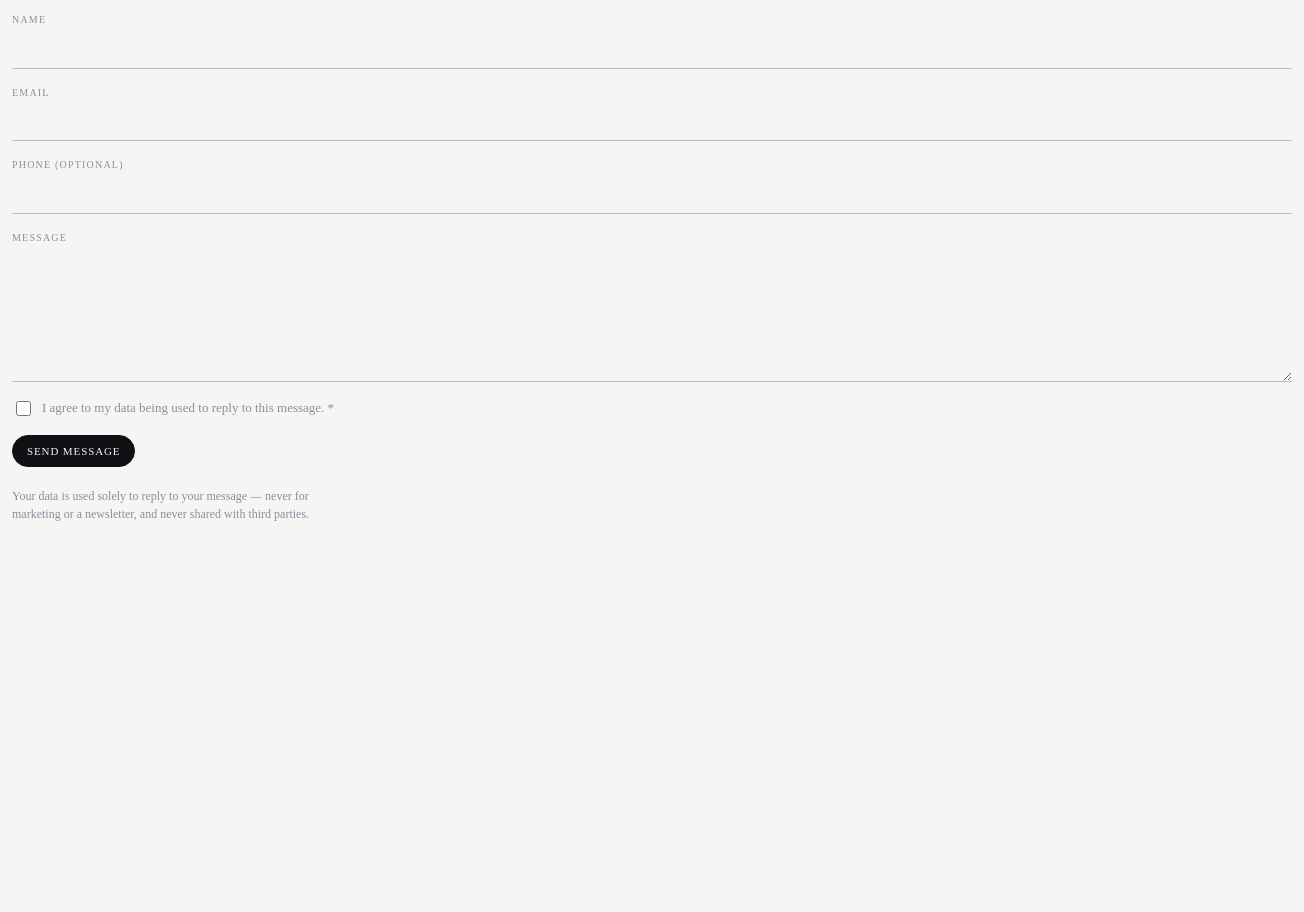
Test: ContactForm › submits the Turnstile token and form data, shows a toast, and resets on success
The width and height of the screenshot is (1304, 912).
Type "Jane Doe" into the field labelled "Name" at (652, 51), box [12,34,1292,68]
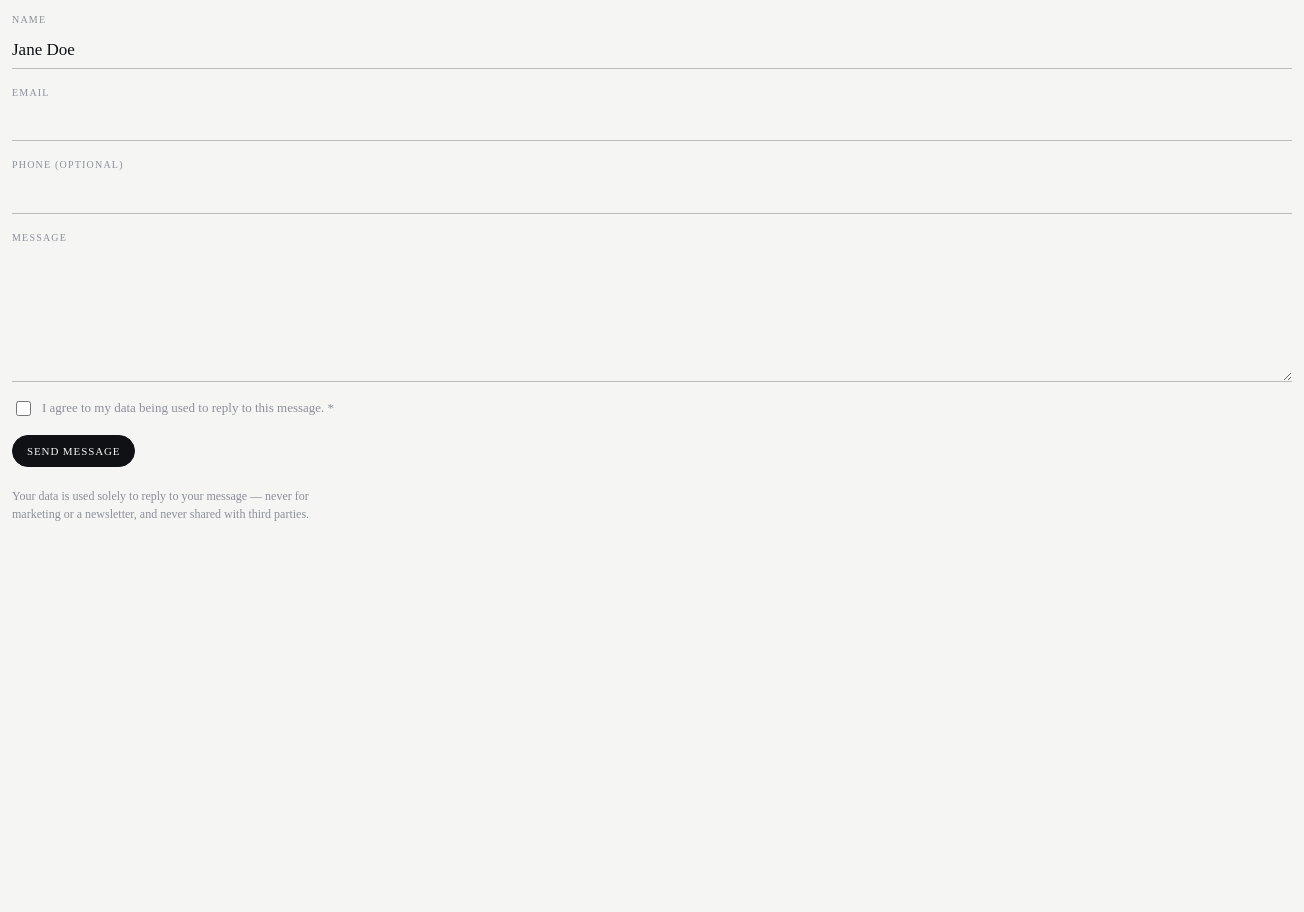
Type "jane@example.com" into the field labelled "Email" at (652, 124), box [12,106,1292,141]
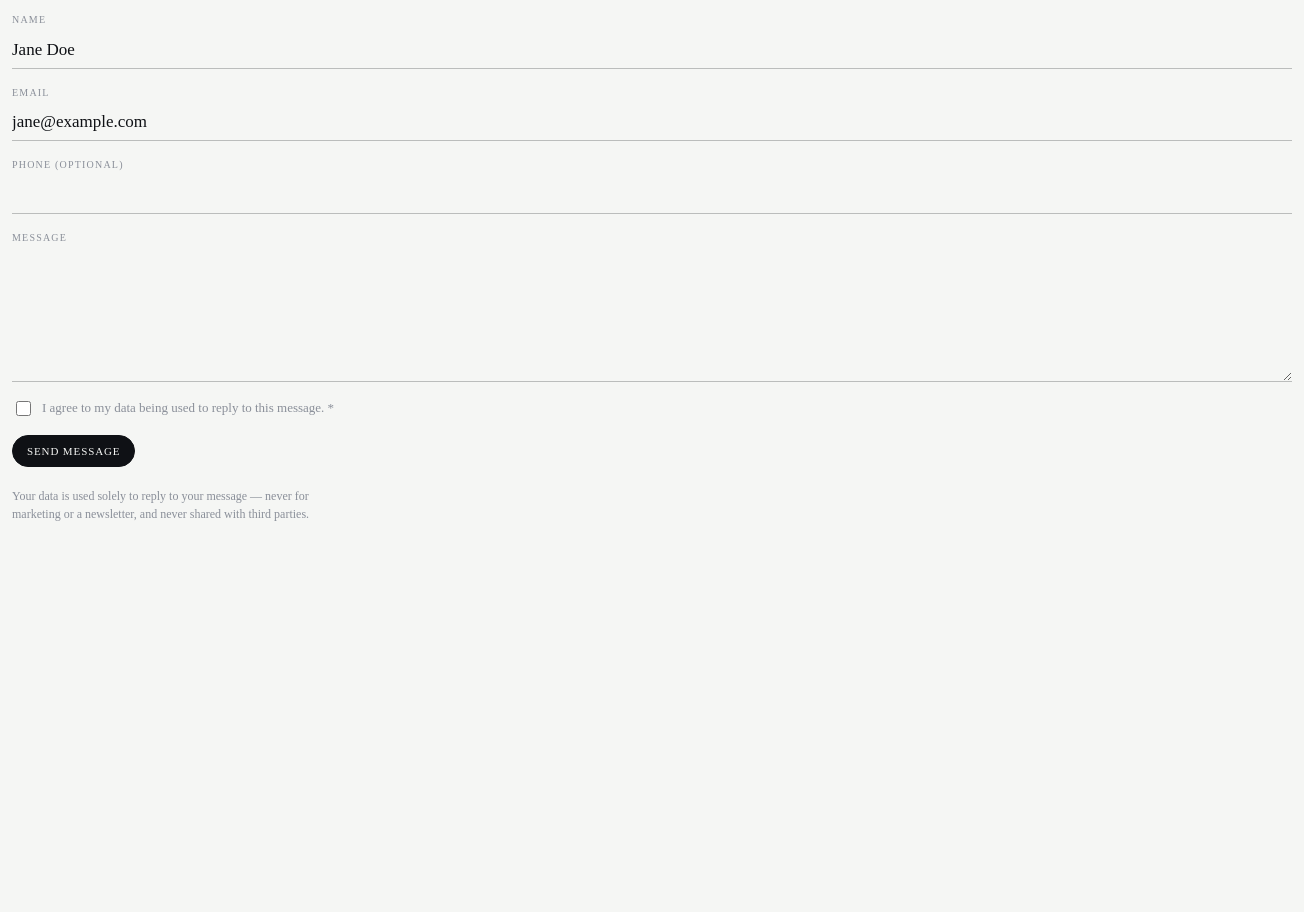
Type "Hello there." into the text box labelled "Message" at (652, 317), box [12,251,1292,382]
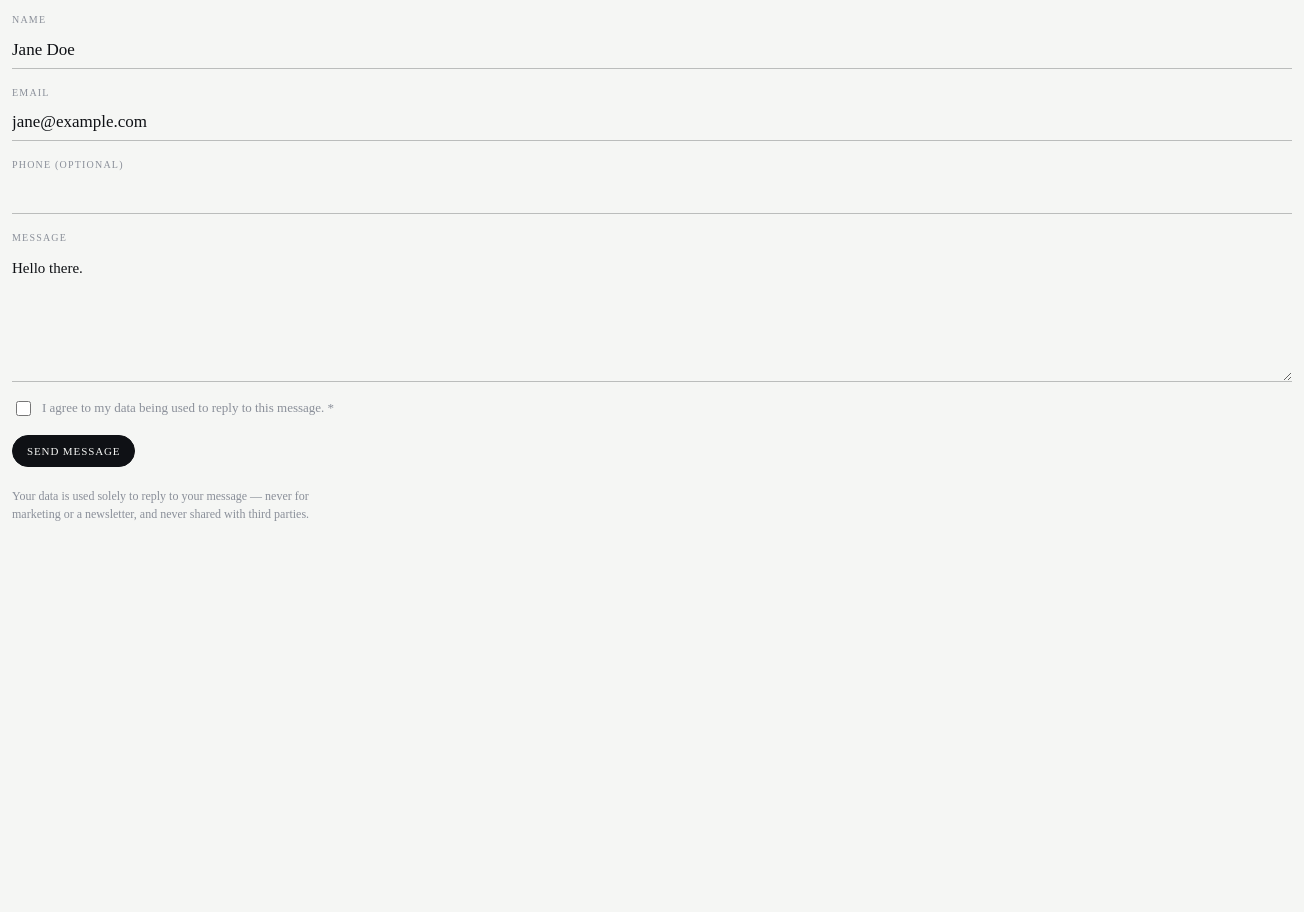
Click the checkbox labelled "I agree to my data being used to reply to this message. *" at (24, 409), box [16,401,31,416]
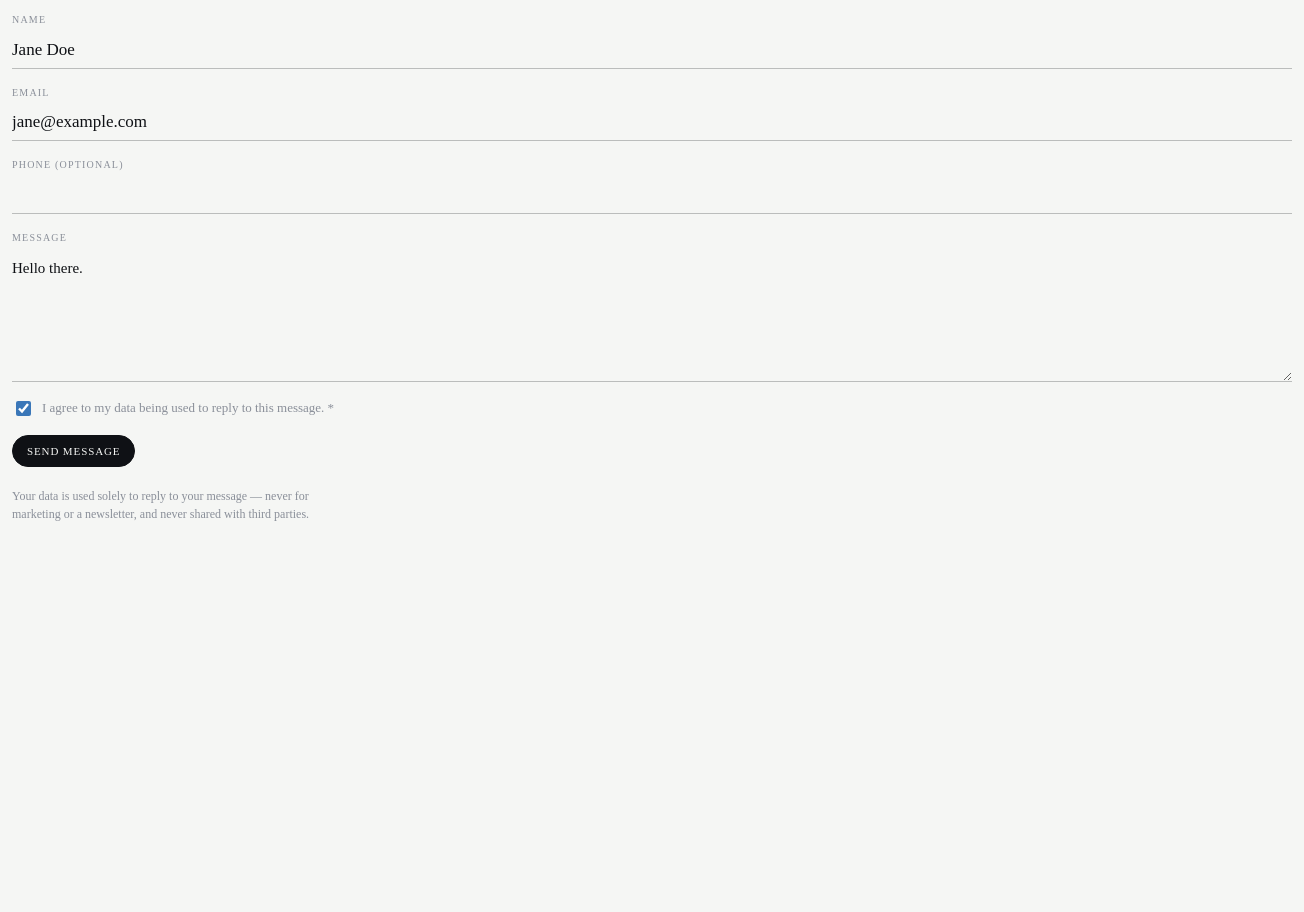
Click the button "Send message" at (74, 451), box [12,435,135,467]
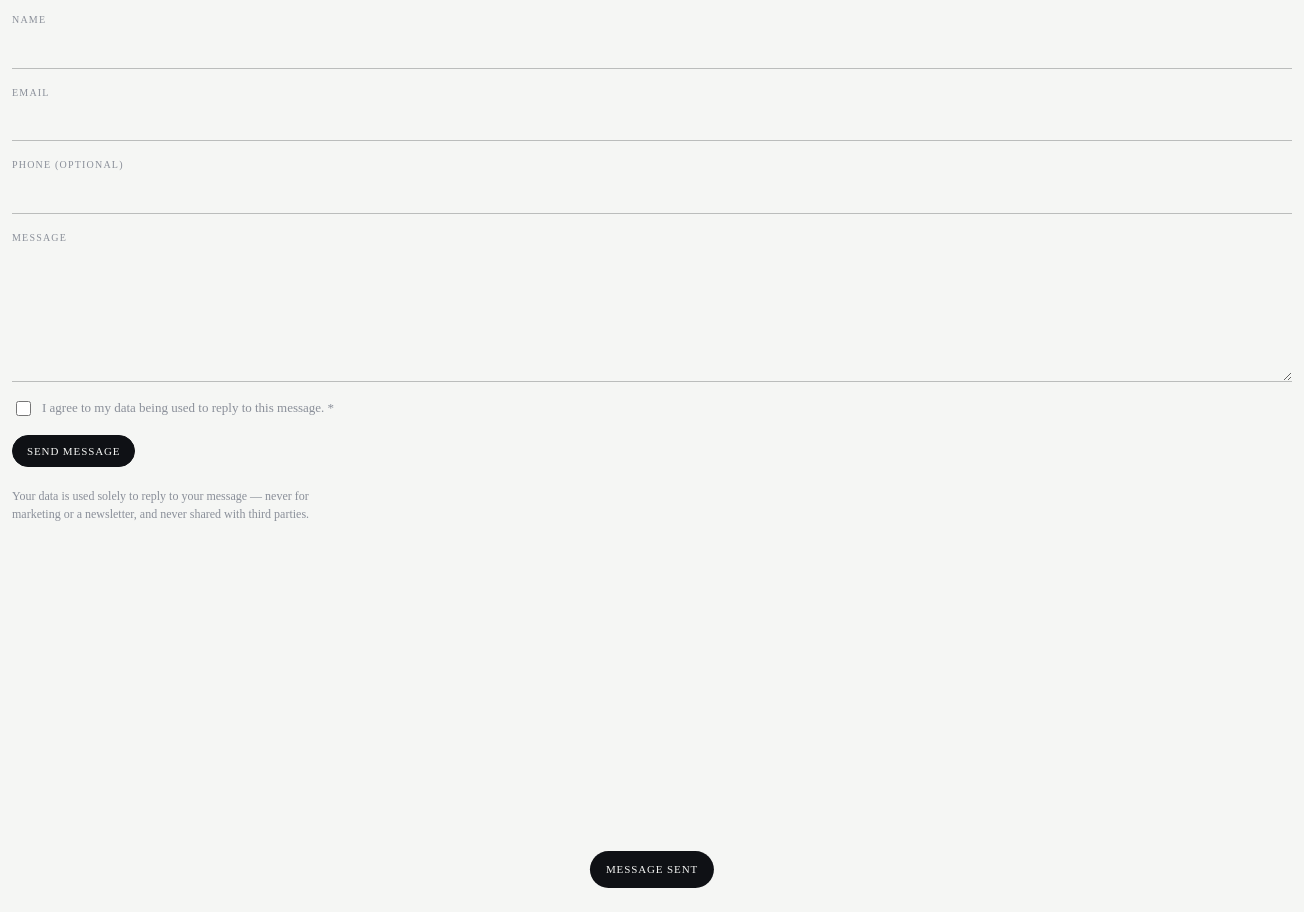
Check: the text "Message sent" is shown, box [590,851,714,888]
Check: the field labelled "Name" is empty, box [12,34,1292,68]
